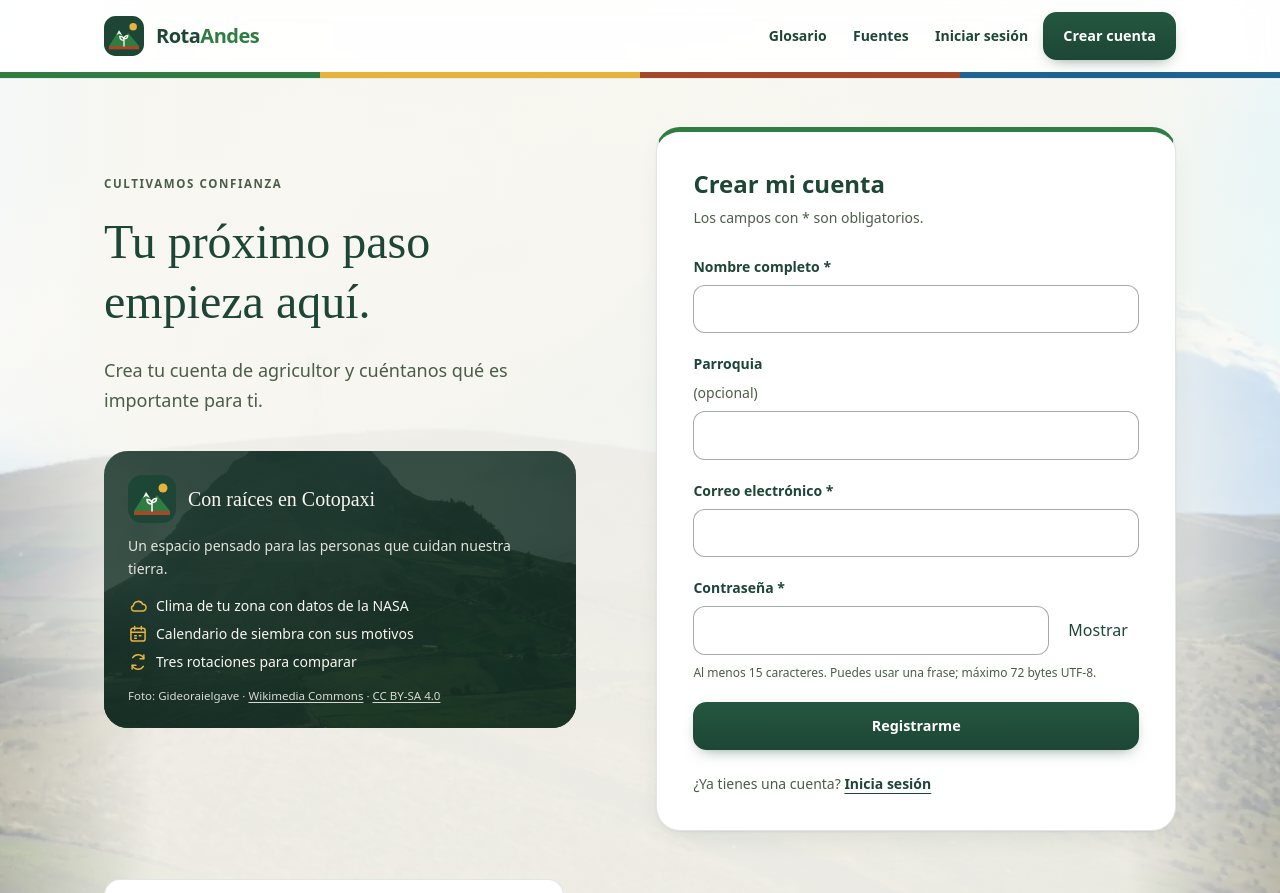
it: Sesión y pantallas › registro valida contraseña y permite mostrarla u ocultarla
In the field labelled "Nombre completo *": (916,309) [693,285,1139,333], type "Nombre de prueba"
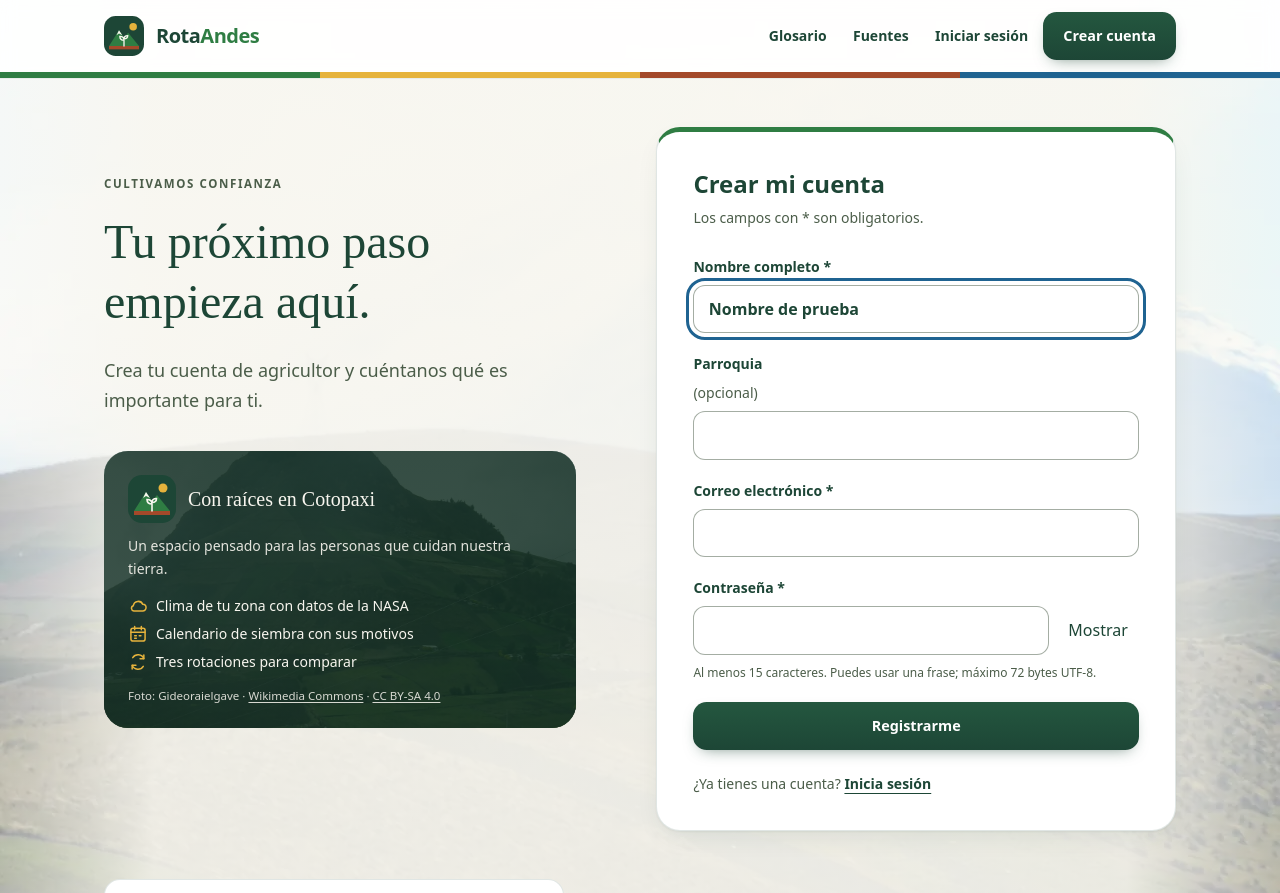
In the field labelled "Correo electrónico *": (916,533) [693,509,1139,557], type "fixture@example.invalid"
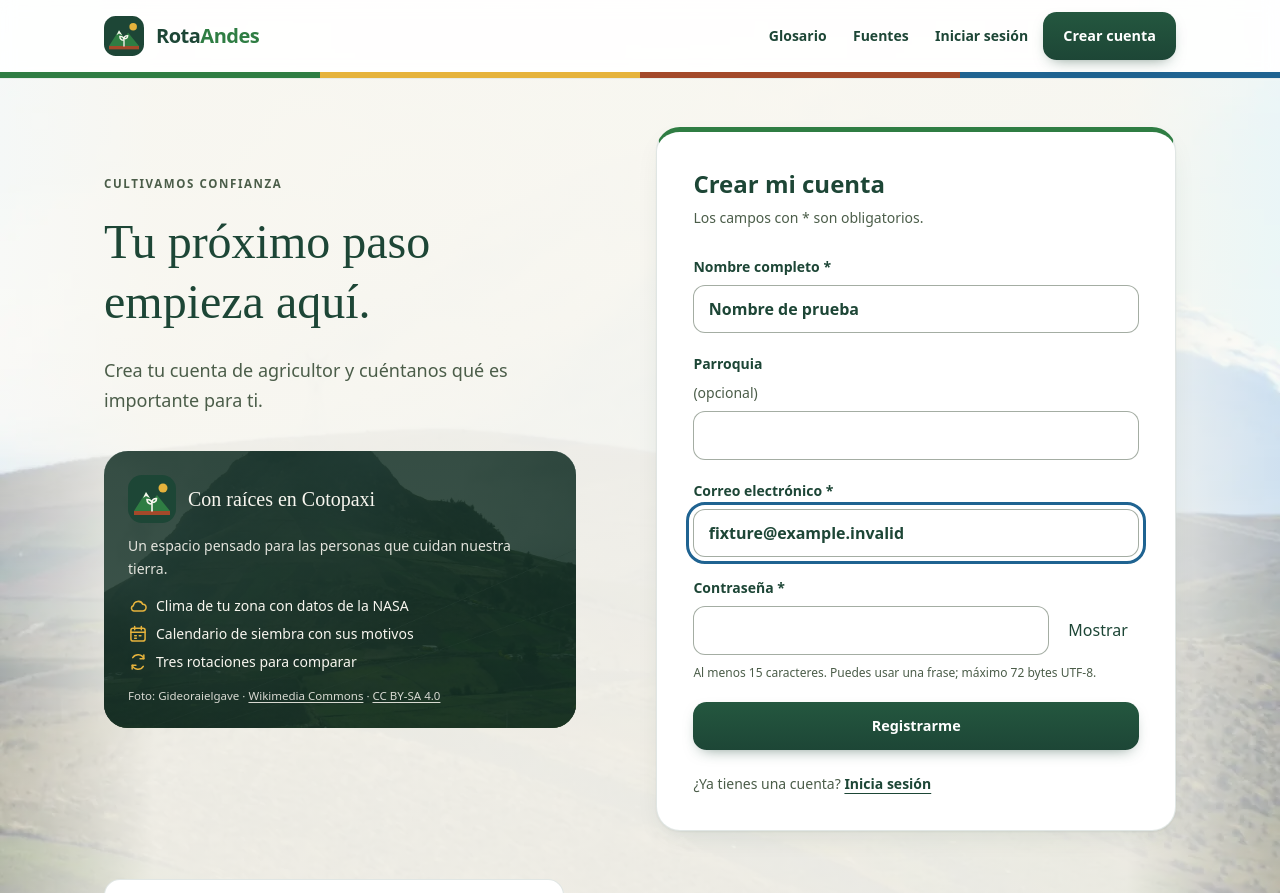
In the password field labelled "Contraseña *": (871,630) [693,606,1049,654], type "corta"
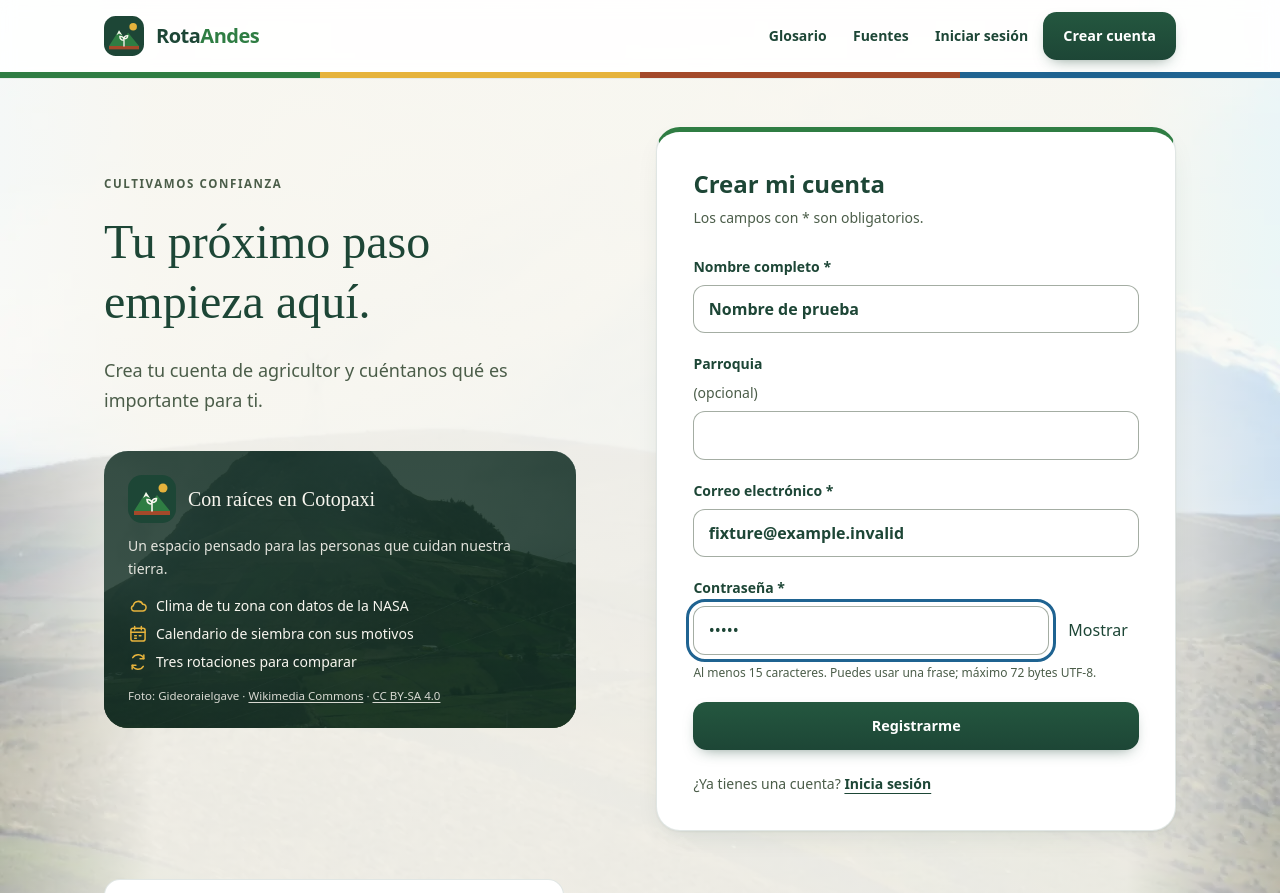
Click the button with aria-label "Mostrar contraseña": (1098,630) [1057,608,1139,652]
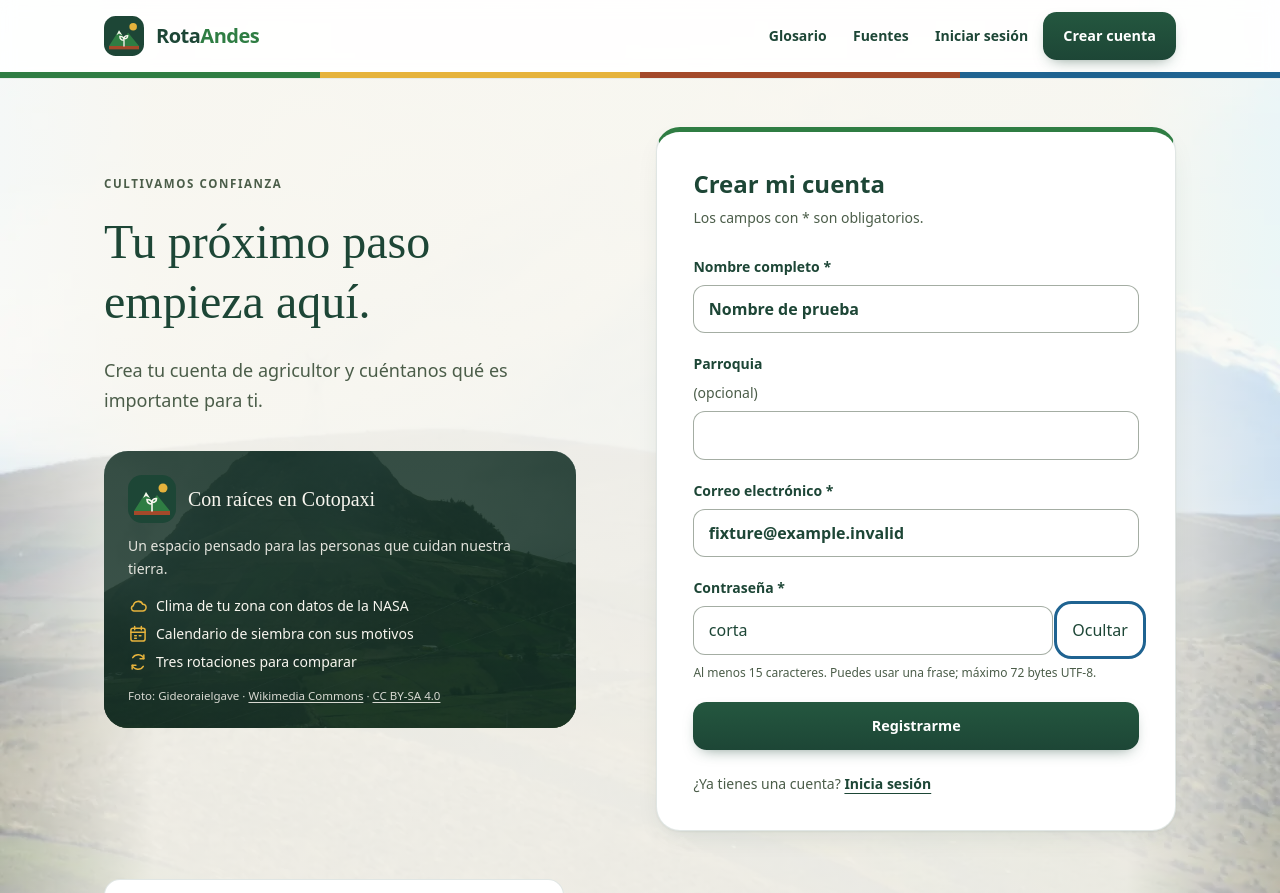
Now the field labelled "Contraseña *" shows its text, box [693,606,1053,654]
Click the button with aria-label "Ocultar contraseña": (1100,630) [1061,608,1139,652]
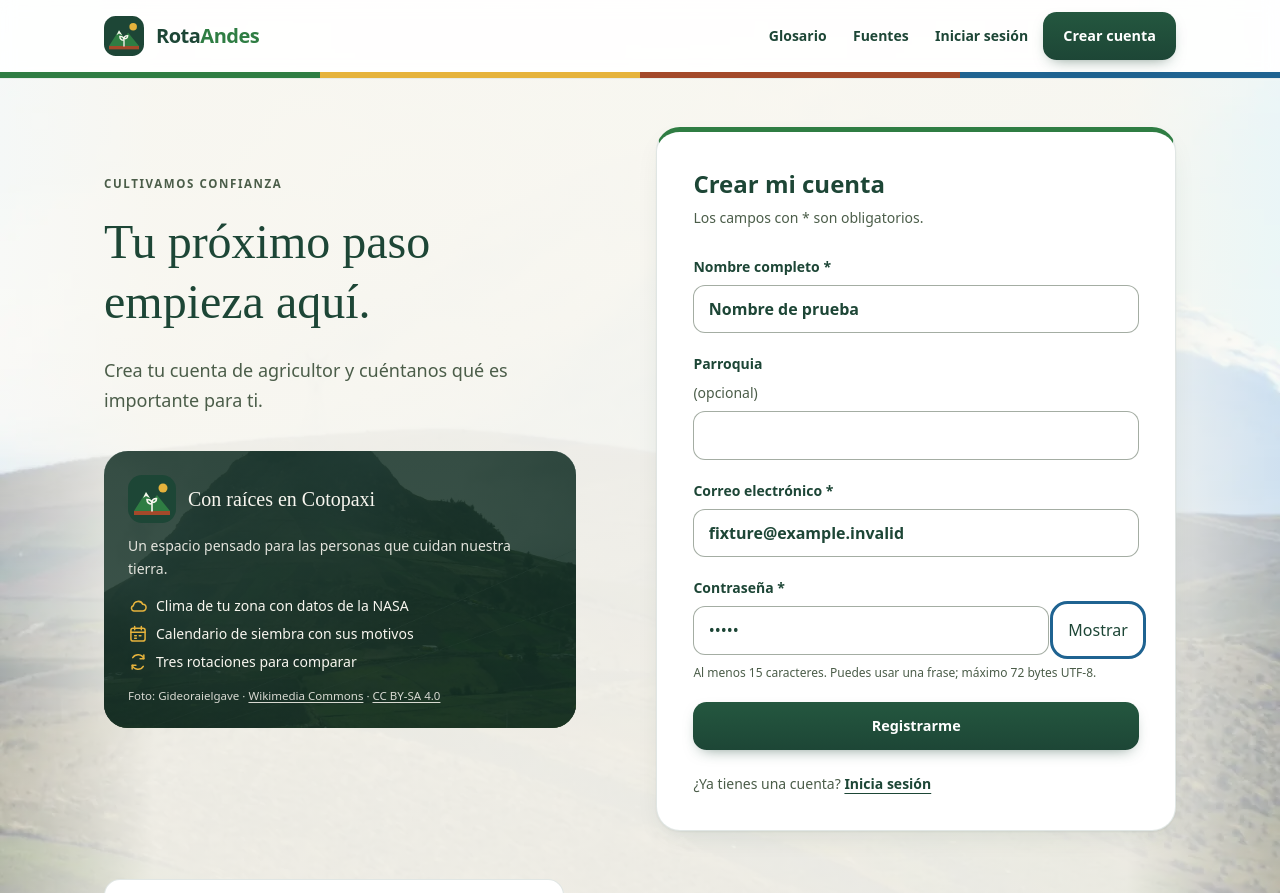
Now the password field labelled "Contraseña *" hides its text, box [693,606,1049,654]
Click the button "Registrarme": (916,726) [693,702,1139,750]
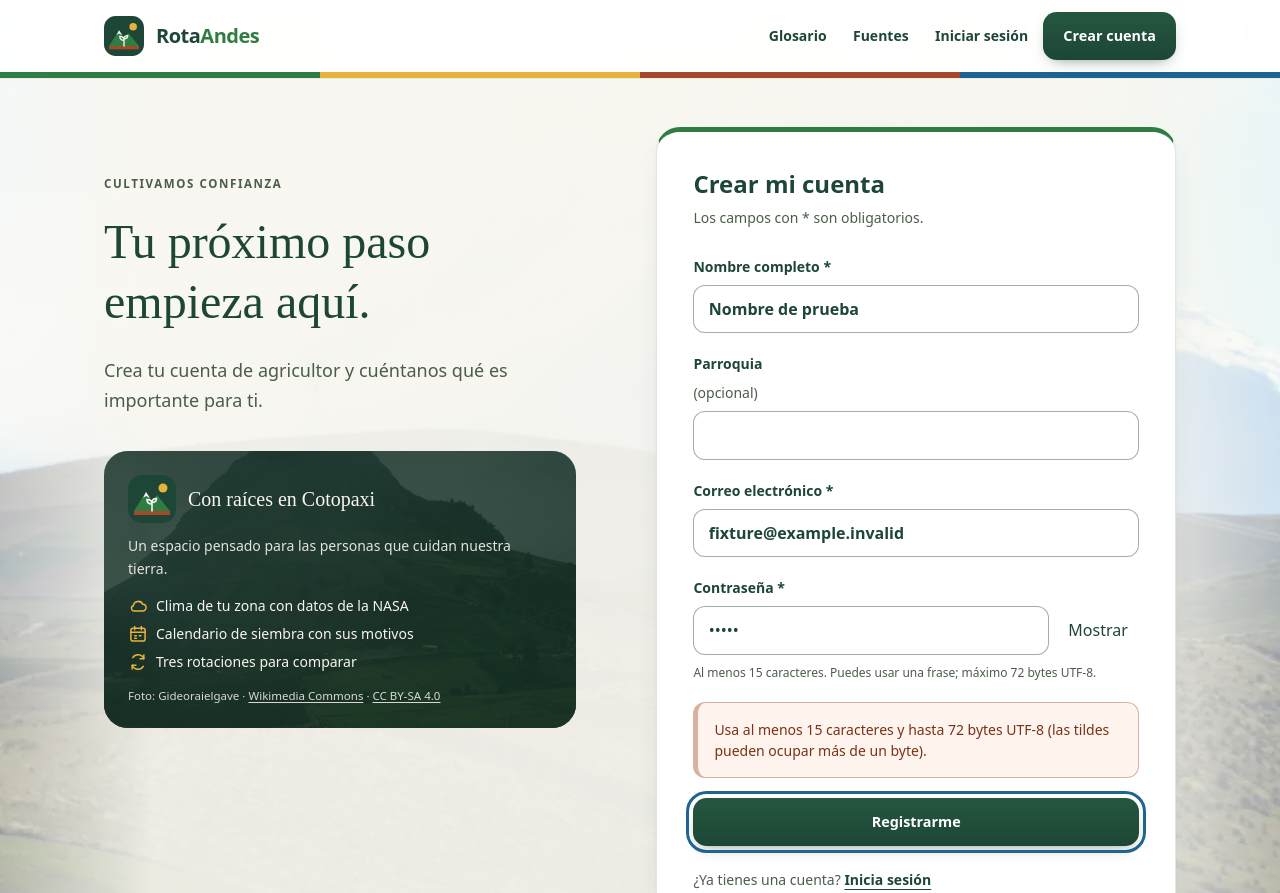
Now the message shows "15 caracteres", box [714,720,1109,760]
